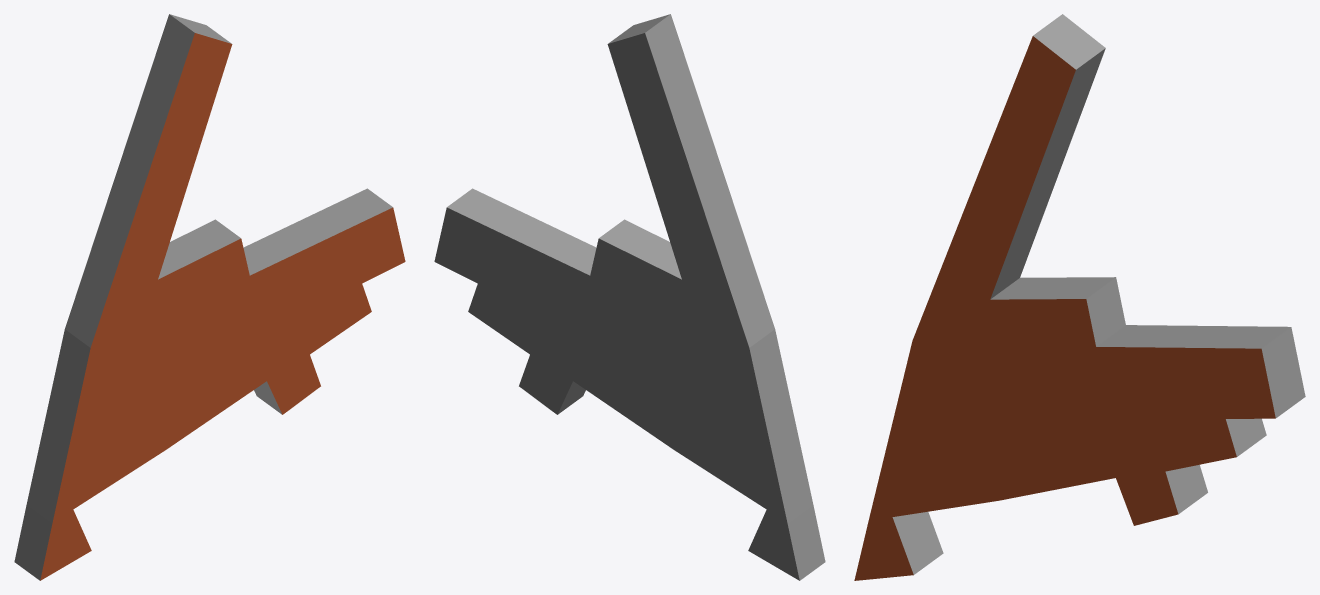
Rendered from construction_3953_assumed_A_Casa_h6m.obj.
3 renders of one model, left to right at view 1: azimuth 30°, elevation 25°; view 2: azimuth 150°, elevation 25°; view 3: azimuth 330°, elevation 25°, orthographic. The views are drawn at different scales.
Parts seen in each view (by area): view 1: construction_3953_assumed_A_Casa; view 2: construction_3953_assumed_A_Casa; view 3: construction_3953_assumed_A_Casa.
Part boxes in pixels (x1,y1,x2,y2): construction_3953_assumed_A_Casa: (14,14,405,580); construction_3953_assumed_A_Casa: (434,14,825,580); construction_3953_assumed_A_Casa: (854,14,1305,580).
Size of the model in its own units: 49.02 by 65.42 by 6.
